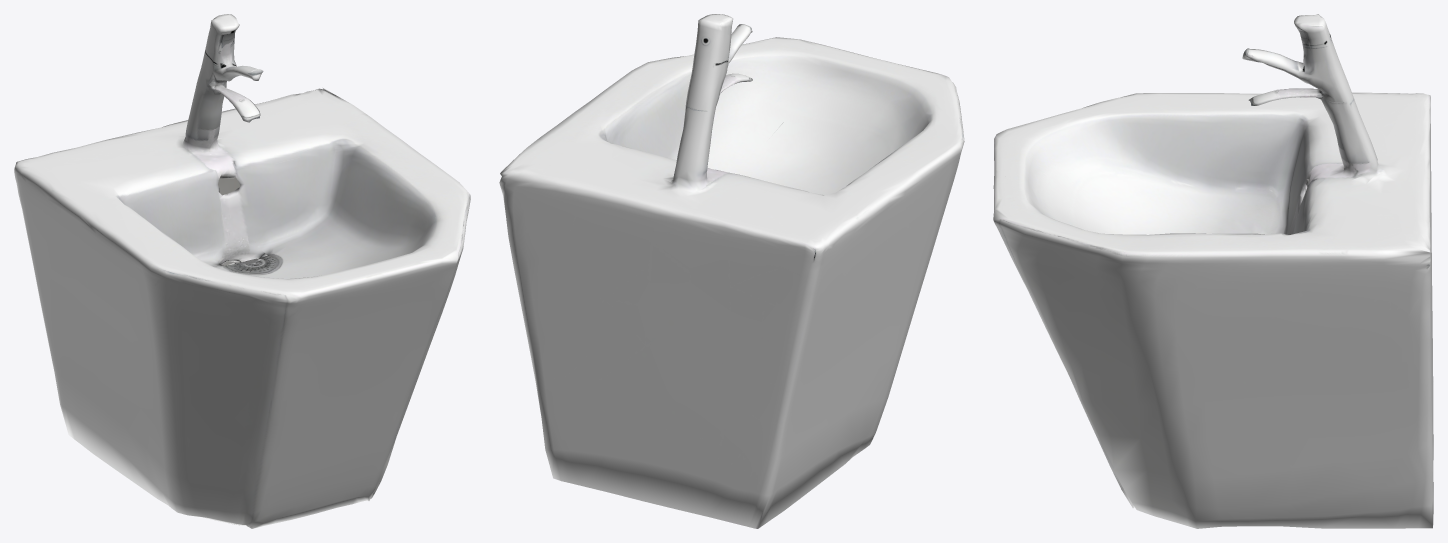
Rendered from sink.glb.
3 renders of one model, left to right at view 1: azimuth 30°, elevation 25°; view 2: azimuth 150°, elevation 25°; view 3: azimuth 270°, elevation 25°, orthographic. The views are drawn at different scales.
Size of the model in its own units: 1.53 by 2 by 1.74.
1 material, 1 textured.
